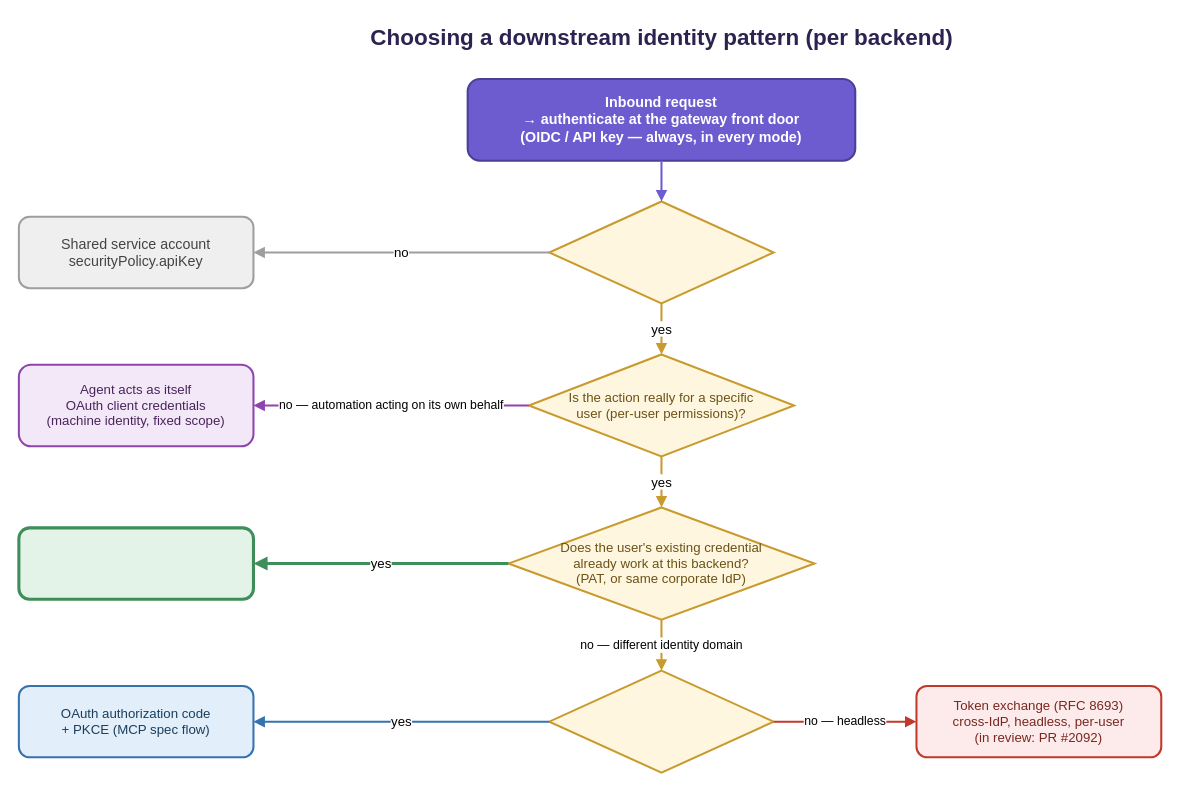
Image size: 1180x791. Some labels were removed from this diagram. Here are the shapes that lost their labels. From the top down, the centre of each, then its label:
point 661,252: Does this backend care who is asking?
point 135,563: forwardHeaders (this post — zero new infrastructure)
point 661,721: Is a human present with a browser?
